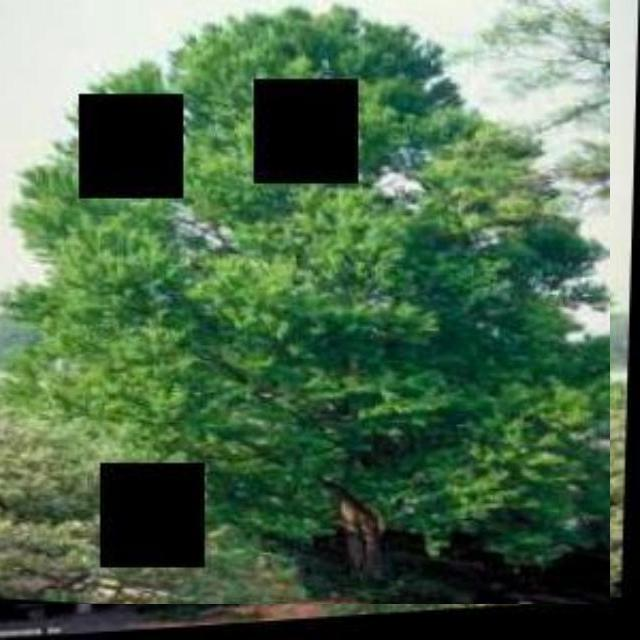tree: (0, 0, 610, 604)
